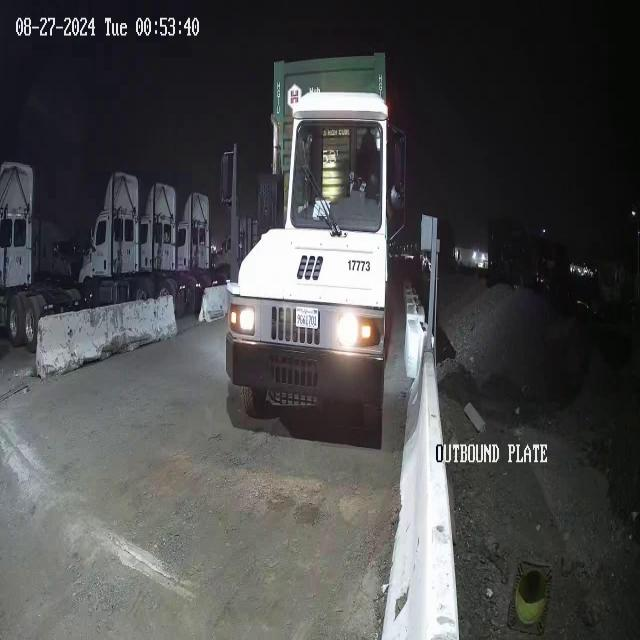TRUCK_OUT: (223, 51, 410, 447)
